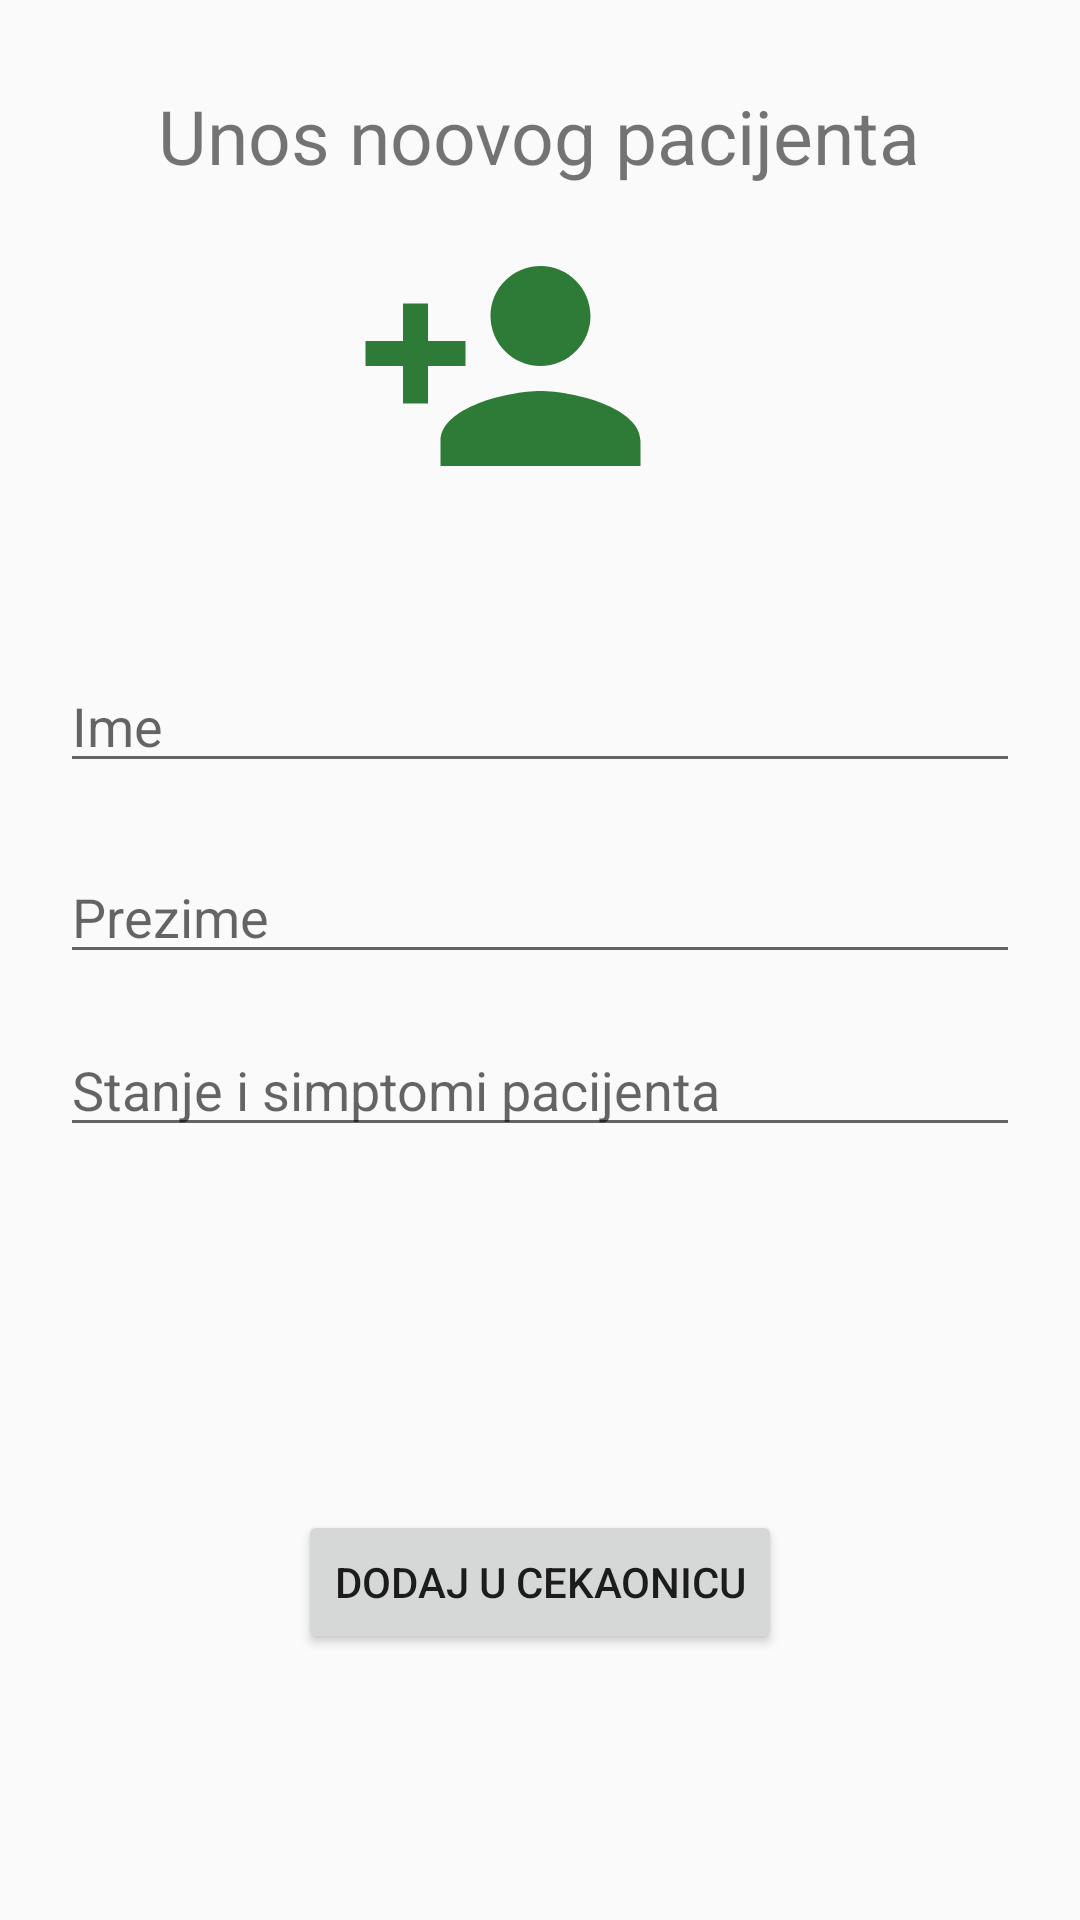

Named icons in this screenshot (1080 x 1920) and their bounding boxes, (x1, y1, x2, y2):
person: (365, 266, 641, 466)
